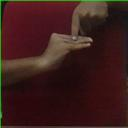hand: (41, 32, 93, 70), (70, 0, 110, 41)
